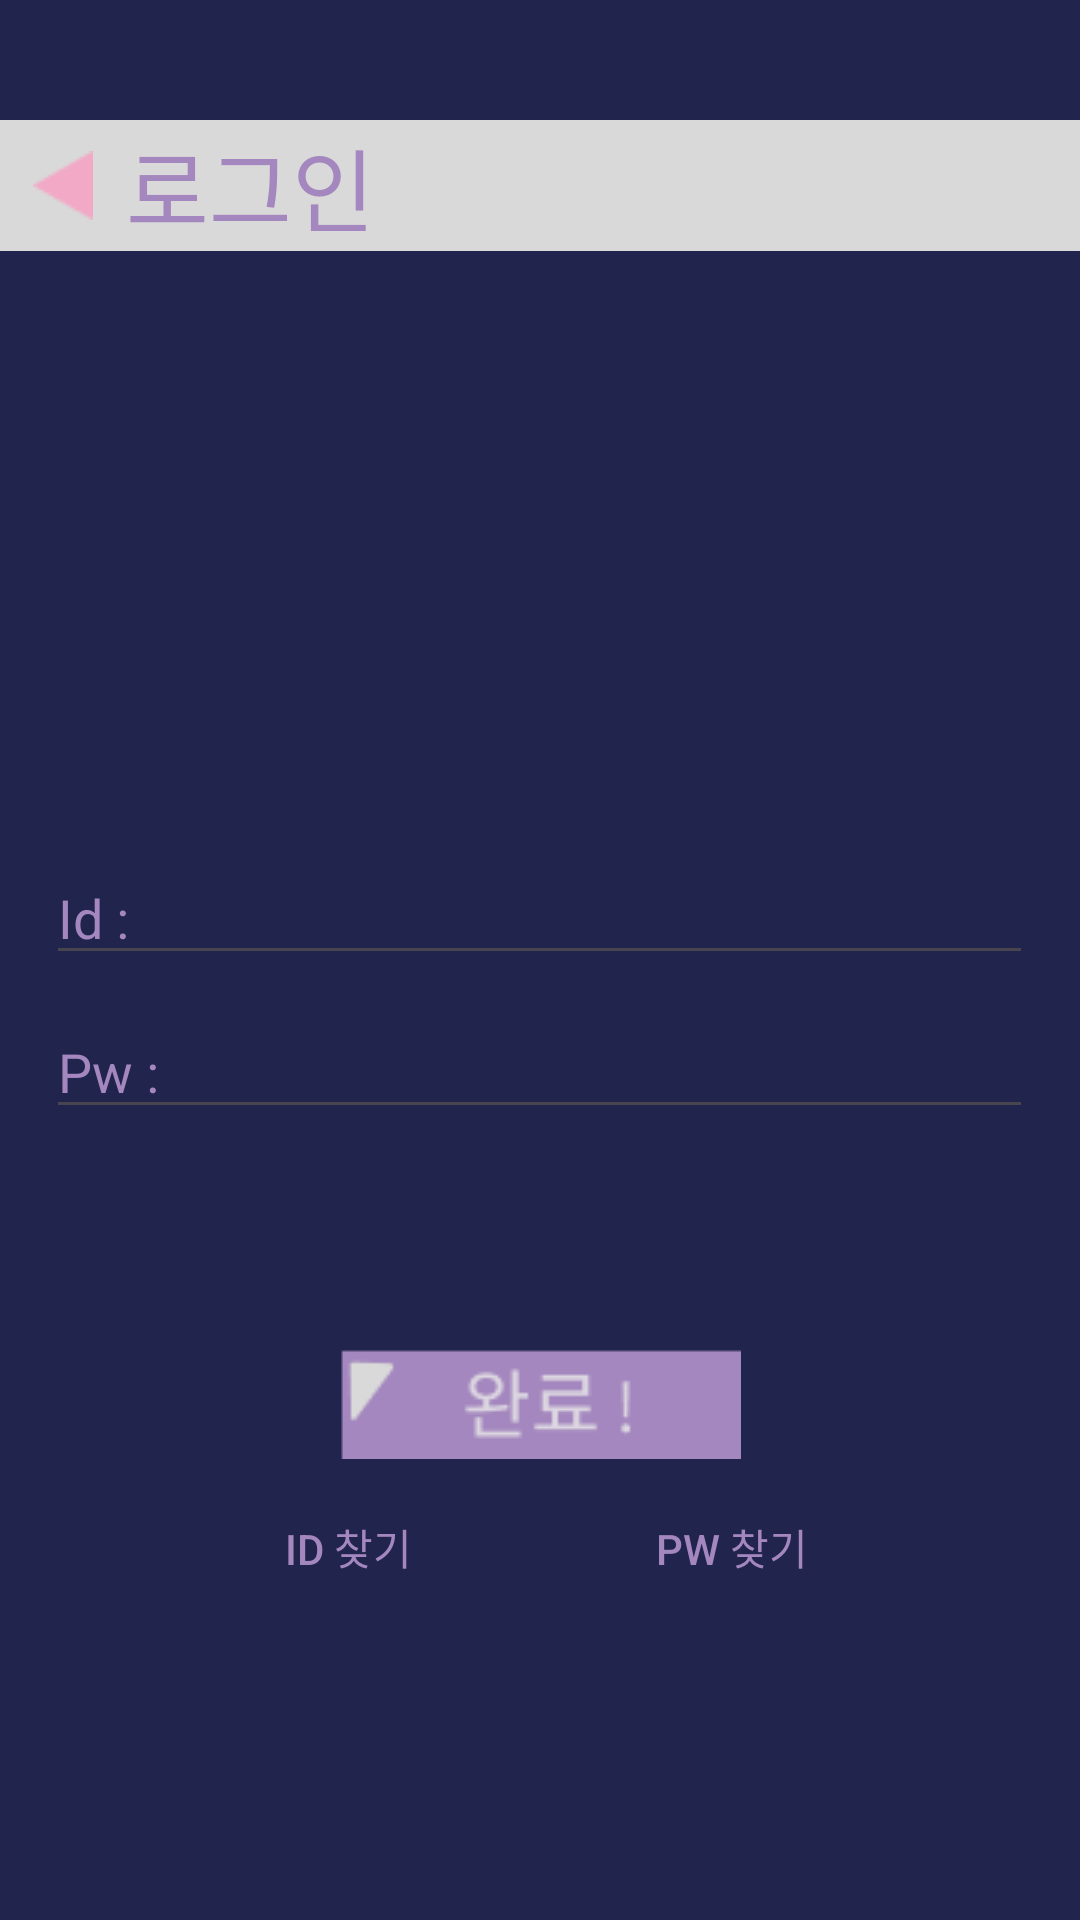

Where icons sit on this 1080 × 1920 app screen, as (x1, y1, x2, y2):
join arrow: (33, 151, 93, 220)
